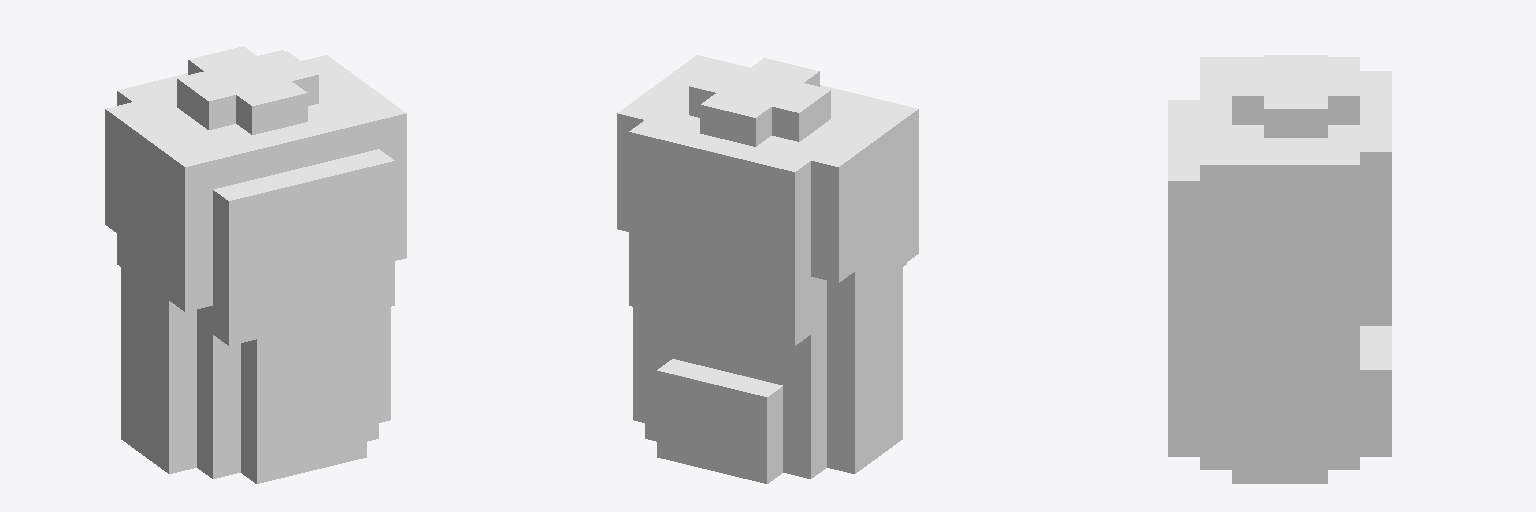
File: char-33-chest_hvy_3_sh_ja.obj
The picture shows the model from 3 angles: view 1: azimuth 30°, elevation 25°; view 2: azimuth 150°, elevation 25°; view 3: azimuth 270°, elevation 25°; orthographic projection.
Visible parts, largest first — view 1: chest_hvy_3_sh_ja; view 2: chest_hvy_3_sh_ja; view 3: chest_hvy_3_sh_ja.
Part boxes in pixels (x1,y1,x2,y2): chest_hvy_3_sh_ja: (105,46,406,483); chest_hvy_3_sh_ja: (617,55,918,483); chest_hvy_3_sh_ja: (1168,55,1391,483).
Bounding box in the file's own units: 0.8 × 1.2 × 0.7.